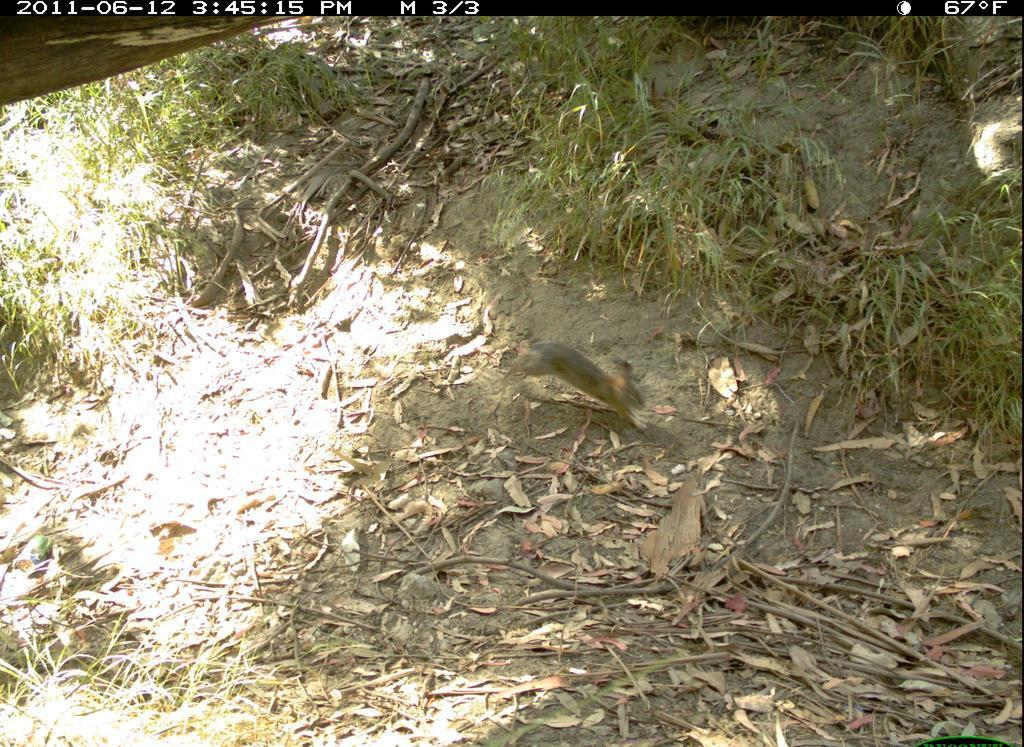rabbit: (498, 332, 656, 433)
